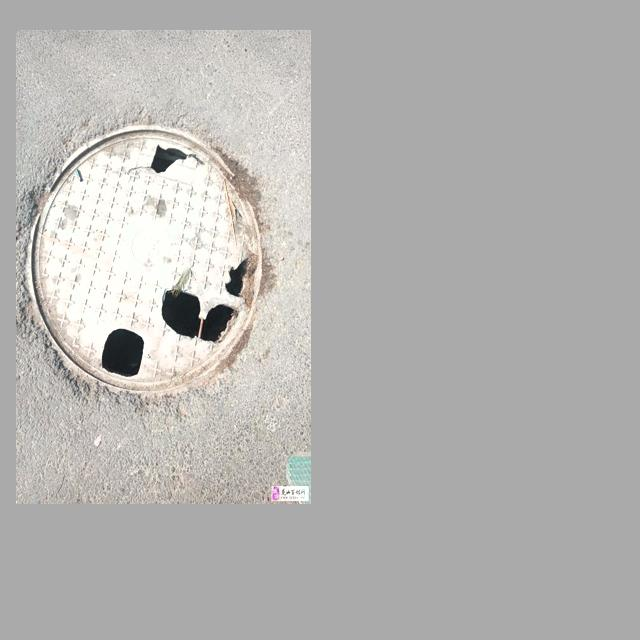broke: (26, 116, 279, 403)
